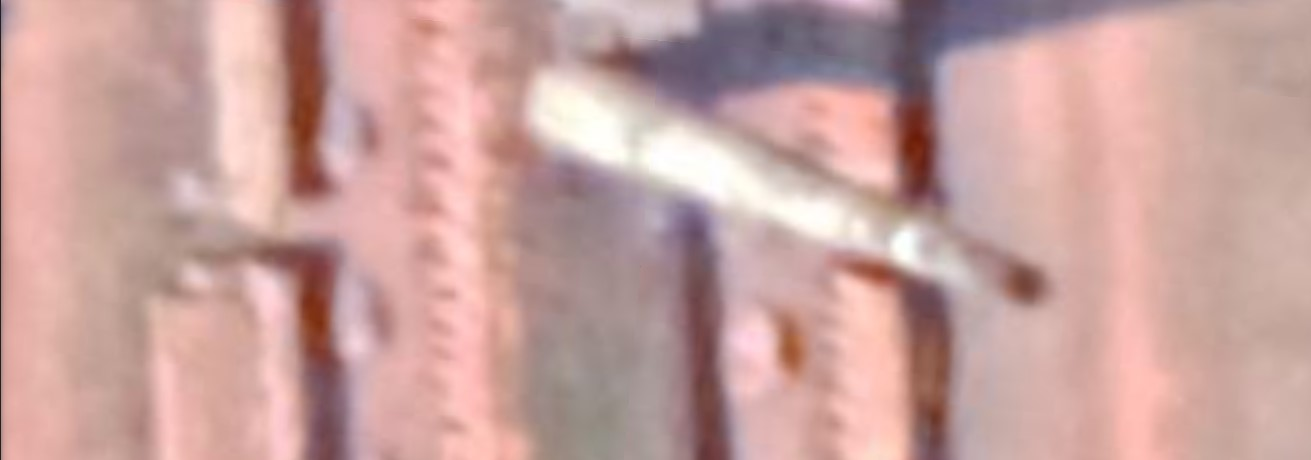kiln: (205, 6, 1184, 456)
